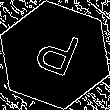P_S: (27, 25, 83, 85)
